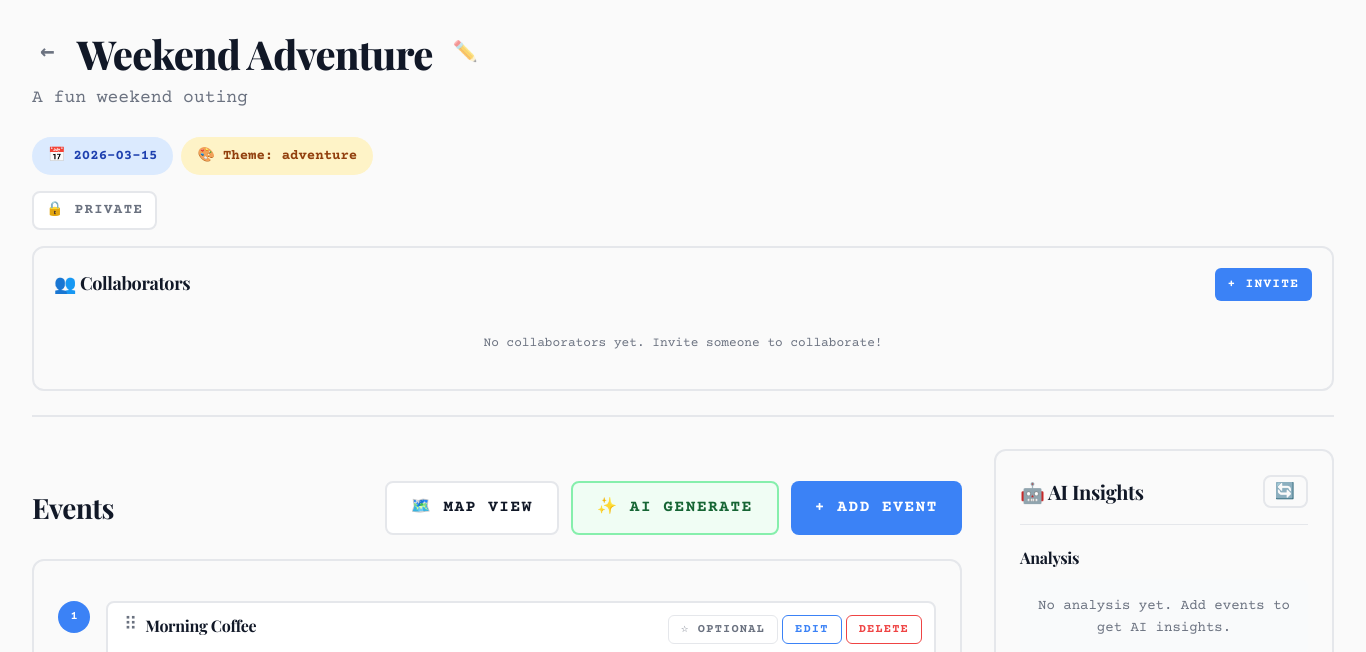
PlanDetailPage - AI Generation › should hide Add Event button when AI generator is shown
The width and height of the screenshot is (1366, 652).
Check: the heading "Weekend Adventure" is shown, box [77,32,433,76]
Check: the button "+ Add Event" is shown, box [791,481,962,535]
Click the button "✨ AI Generate". click: (675,508)
box: [571,481,779,535]
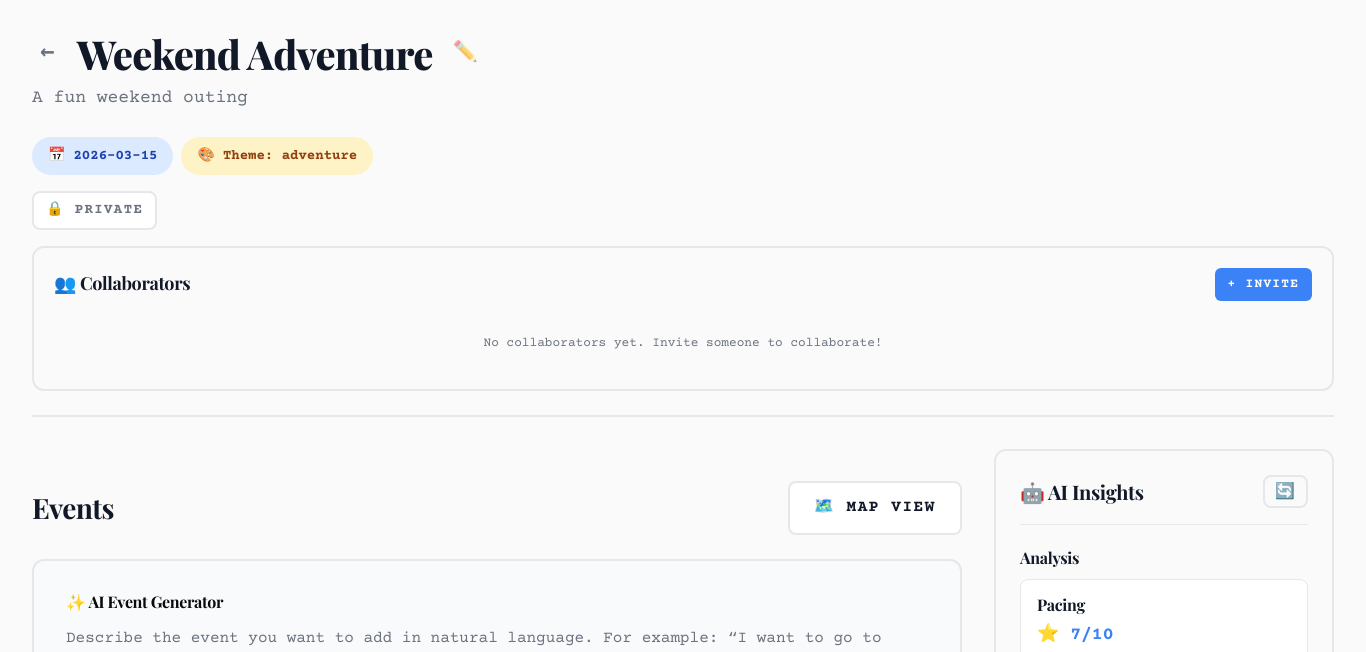
Check: the button "+ Add Event" is gone
